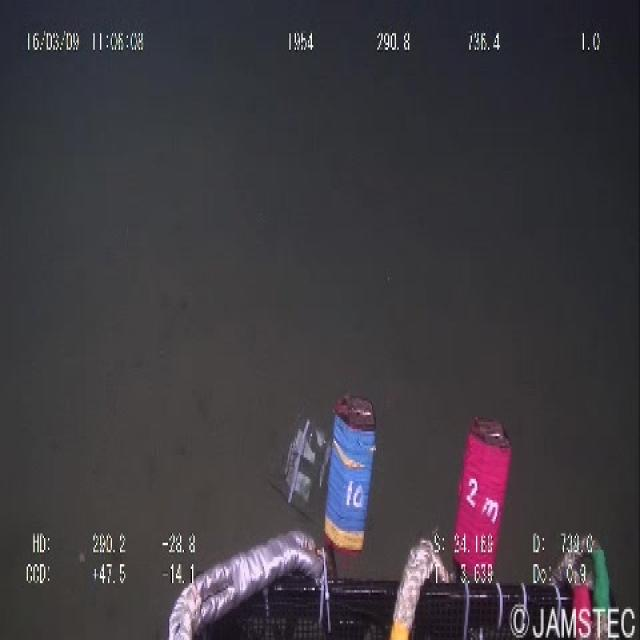plastic: (272, 408, 333, 507)
